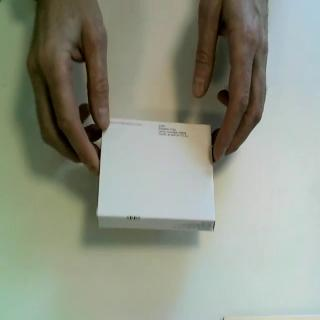valium5mg: (96, 115, 217, 235)
